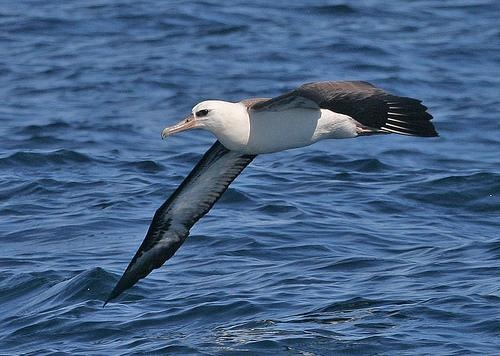bird: (101, 79, 437, 305)
